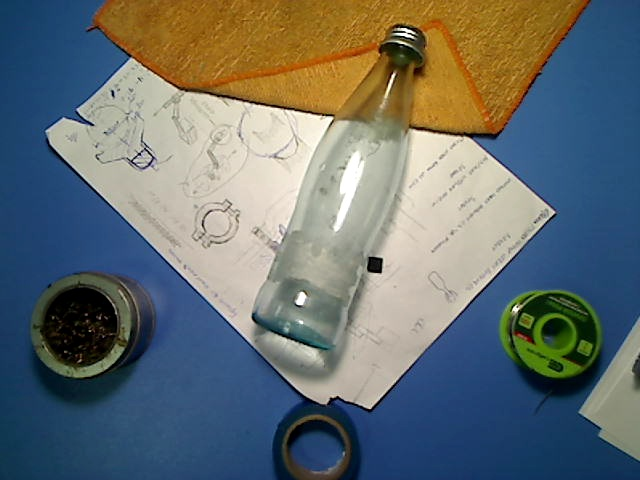bottle: (249, 24, 427, 352)
